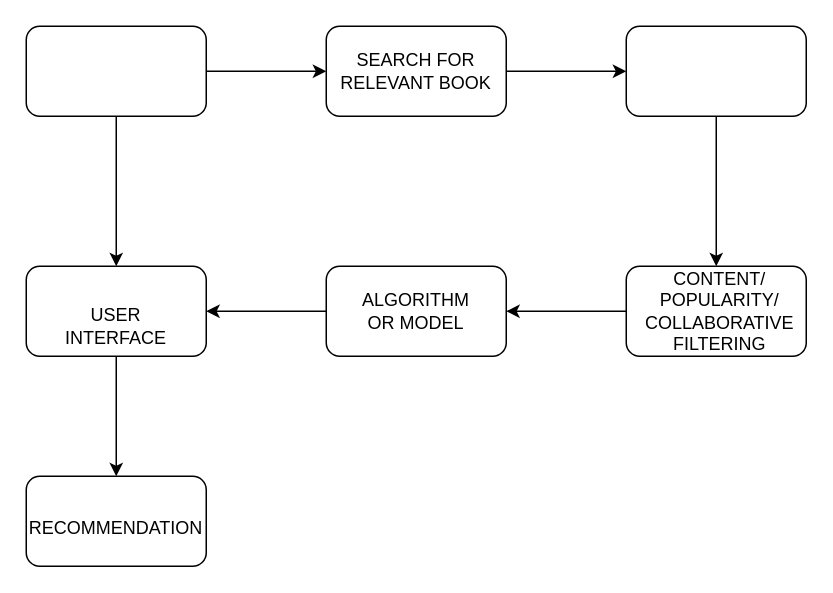
This 833x593 diagram has some shape labels left out. Here are the shapes that lost their labels. From the top down, the box of each, then its label:
(25, 25, 206, 116): USER
(625, 25, 806, 116): RESPONSE FROM STORED INFORMATION
